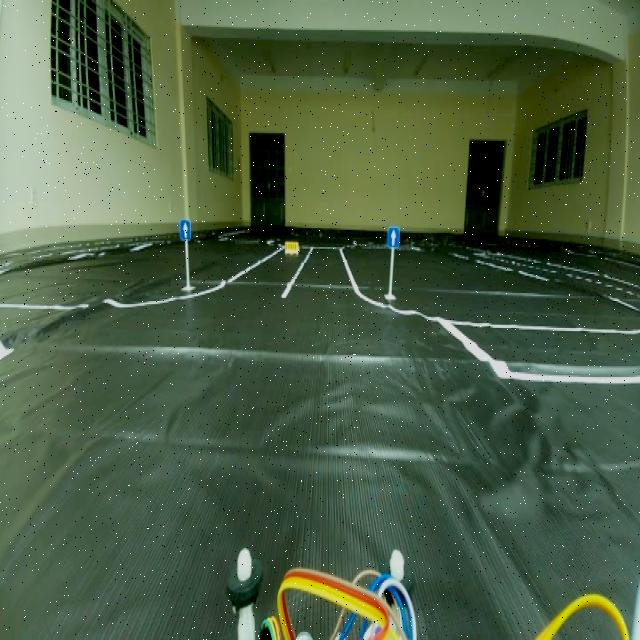onewayroad: (176, 213, 195, 248), (388, 223, 402, 251)
roadblock: (282, 234, 301, 260)
